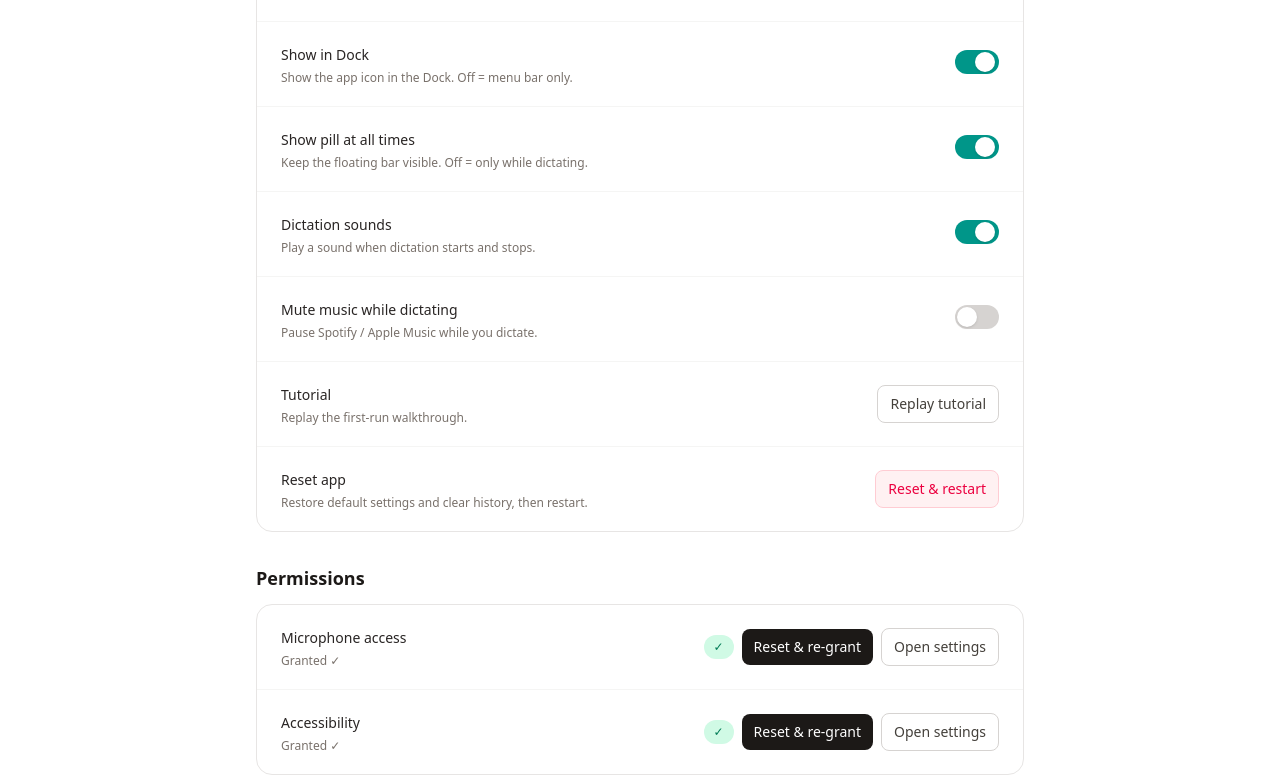
Settings › clicking Reset & restart opens the confirm modal
The image size is (1280, 775).
(page scrolled)
Note: i18n key "settings.resetAppAction" → "Reset & restart" (lowercase r)
Click the button "Reset & restart" at (937, 489), box x1=875 y1=470 x2=999 y2=508
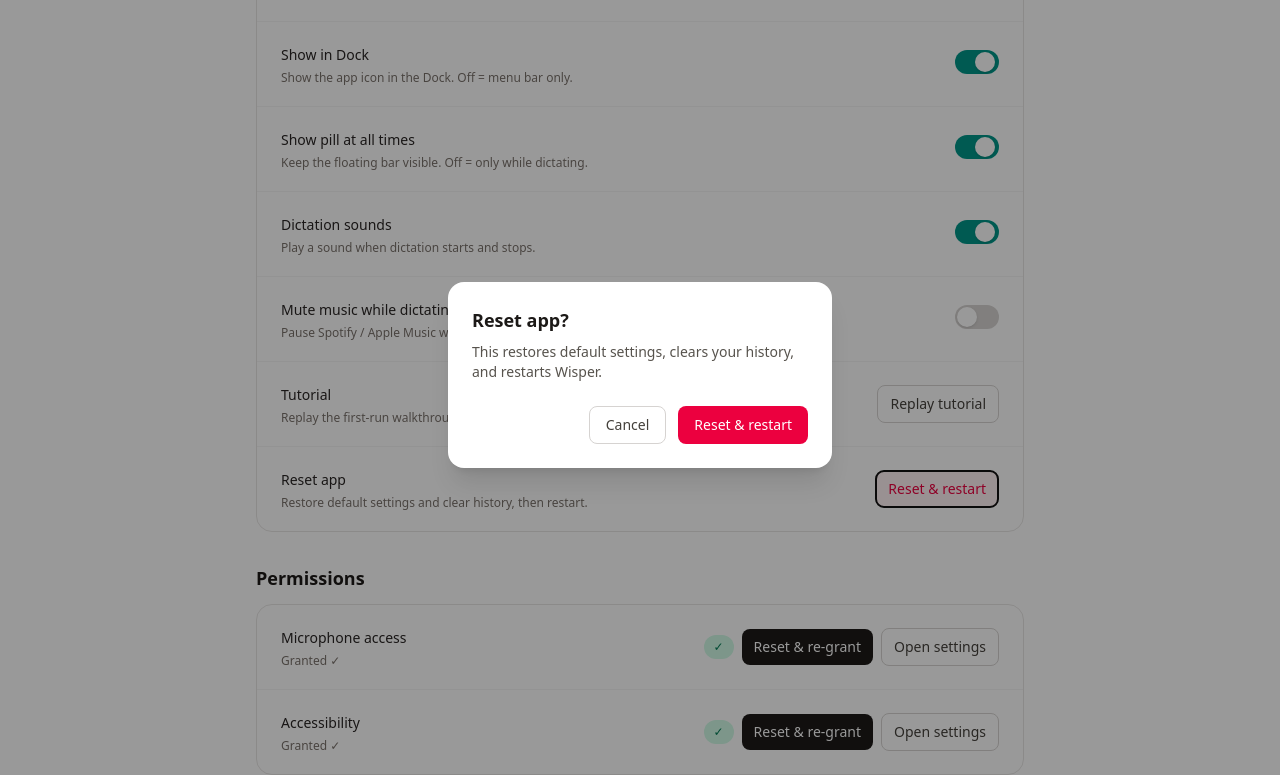
Now the dialog is shown, box x1=448 y1=282 x2=832 y2=468
Now the text "restores default settings" is shown, box x1=472 y1=342 x2=794 y2=381
